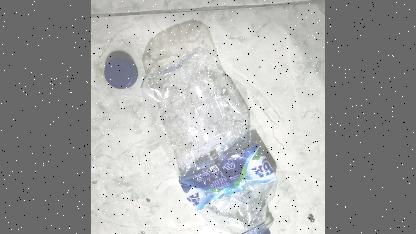Plastic Bottle: (141, 47, 278, 234)
